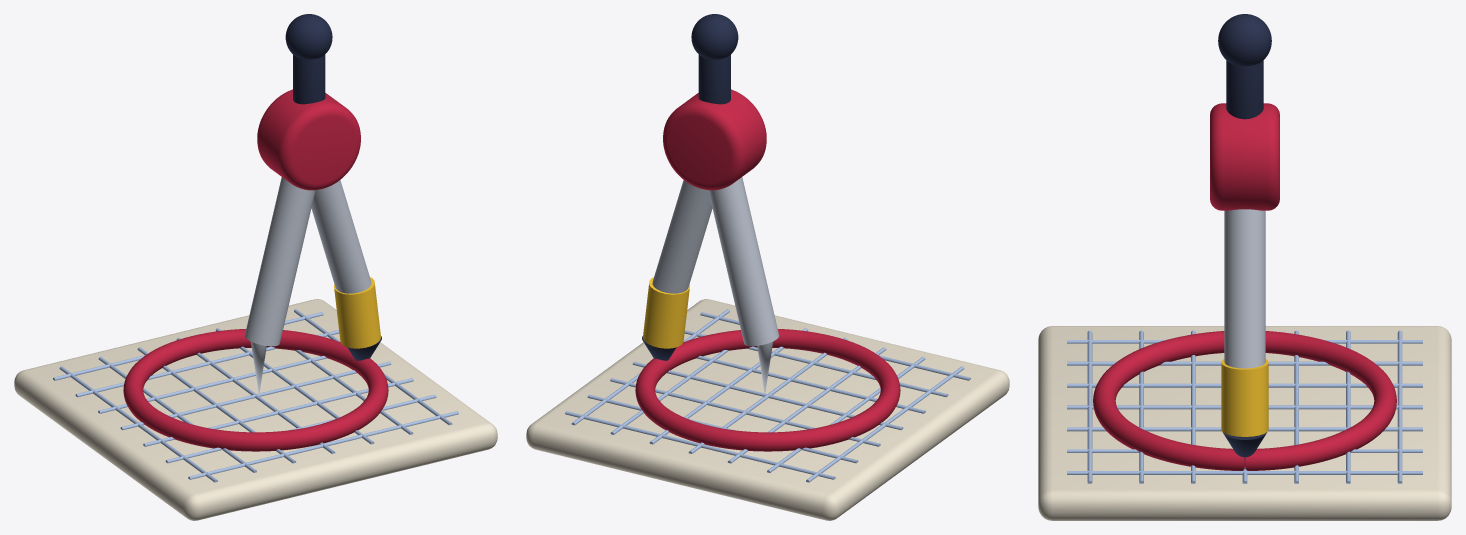
The model's file is high_school-math.glb.
The picture shows the model from 3 angles, left to right: view 1: azimuth 30°, elevation 25°; view 2: azimuth 150°, elevation 25°; view 3: azimuth 270°, elevation 25°; orthographic projection. The views are drawn at different scales.
Parts seen in each view (by area): view 1: Cube, part-circle, Cylinder, tube.015, tube.016, tube.017, Sphere, Cylinder.001, tube.001, tube.007, tube.005, tube.009 (+5 smaller); view 2: Cube, part-circle, Cylinder, tube.015, tube.016, tube.017, Sphere, Cylinder.001, tube.013, tube.007, tube.009, tube.005 (+5 smaller); view 3: Cube, part-circle, Cylinder, tube.016, tube.017, Sphere, Cylinder.001, tube.012, tube.006, tube.004, tube.008, tube.002 (+9 smaller).
Part boxes in pixels (box(x1,y1,x2,y2)): Cube: box(14, 299, 497, 520); part-circle: box(123, 329, 388, 451); Cylinder: box(257, 89, 360, 190); tube.015: box(244, 177, 315, 346); tube.016: box(311, 180, 371, 293); tube.017: box(334, 277, 380, 348); Sphere: box(285, 14, 332, 59); Cylinder.001: box(293, 54, 325, 104); tube.001: box(188, 411, 458, 479); tube.007: box(120, 361, 391, 430); tube.005: box(143, 378, 413, 446); tube.009: box(98, 355, 326, 413); Cube: box(526, 299, 1009, 520); part-circle: box(635, 329, 900, 451); Cylinder: box(663, 89, 766, 190); tube.015: box(708, 177, 779, 346); tube.016: box(652, 180, 712, 293); tube.017: box(643, 277, 689, 348); Sphere: box(691, 14, 738, 59); Cylinder.001: box(698, 54, 730, 104); tube.013: box(565, 411, 835, 479); tube.007: box(632, 361, 903, 430); tube.009: box(610, 378, 880, 446); tube.005: box(697, 355, 925, 413); Cube: box(1038, 326, 1451, 520); part-circle: box(1093, 331, 1396, 470); Cylinder: box(1210, 103, 1279, 210); tube.016: box(1224, 209, 1265, 368); tube.017: box(1221, 359, 1268, 436); Sphere: box(1218, 14, 1271, 66); Cylinder.001: box(1226, 60, 1263, 119); tube.012: box(1067, 471, 1422, 474); tube.006: box(1067, 405, 1422, 409); tube.004: box(1067, 383, 1422, 387); tube.008: box(1067, 427, 1422, 431); tube.002: box(1067, 361, 1422, 365).
Size of the model in its own units: 2 by 2.41 by 2.
